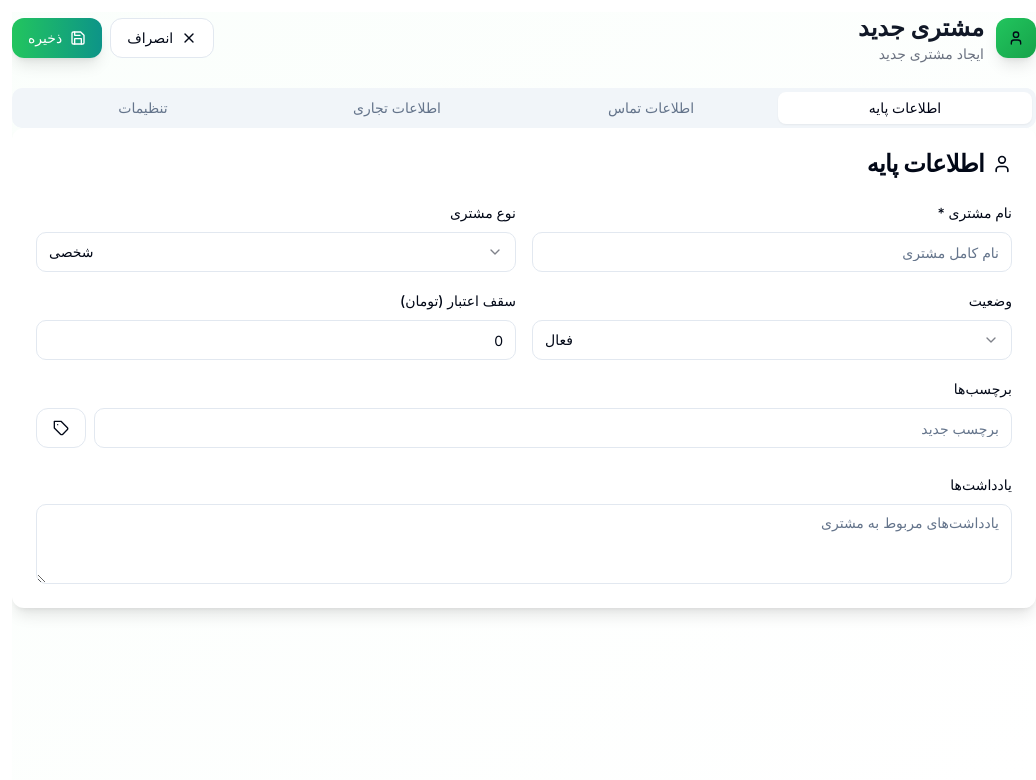
Test case: CustomerForm › validates required fields
// Try to submit without filling required fields
What coordinates should you click on to do the following:
click the button "ذخیره"
I would click on:
 (57, 38)
Its box is x1=12 y1=18 x2=102 y2=58.
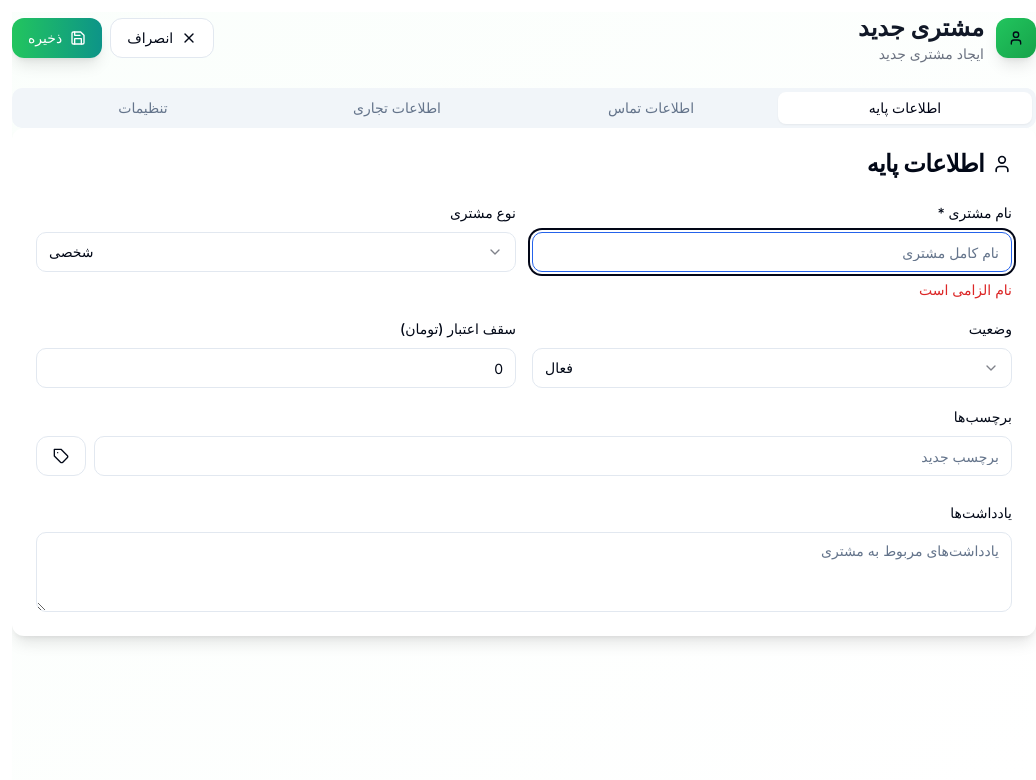
Expected: the text "نام الزامی است" is shown, x1=919 y1=281 x2=1012 y2=298
